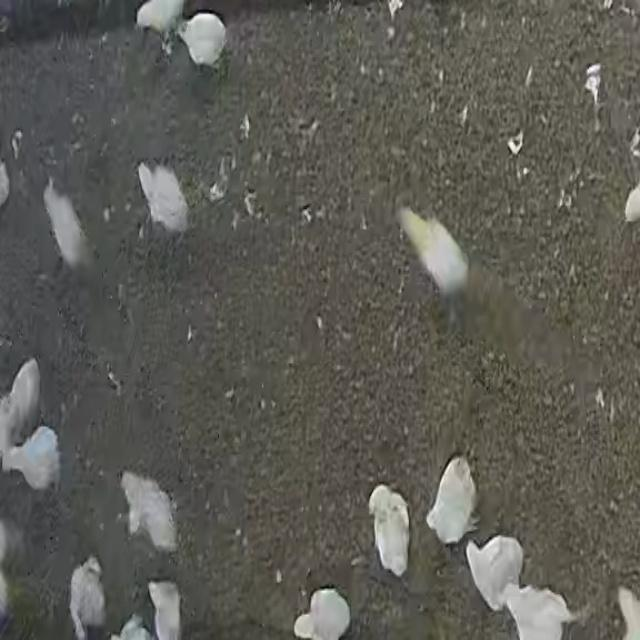chicken: (386, 201, 469, 301), (41, 178, 94, 276), (132, 162, 194, 237), (501, 579, 577, 640), (427, 457, 478, 546), (122, 472, 176, 554), (466, 536, 522, 612), (367, 484, 412, 577), (2, 424, 61, 493), (292, 589, 354, 640), (69, 557, 107, 639), (178, 9, 228, 68)
